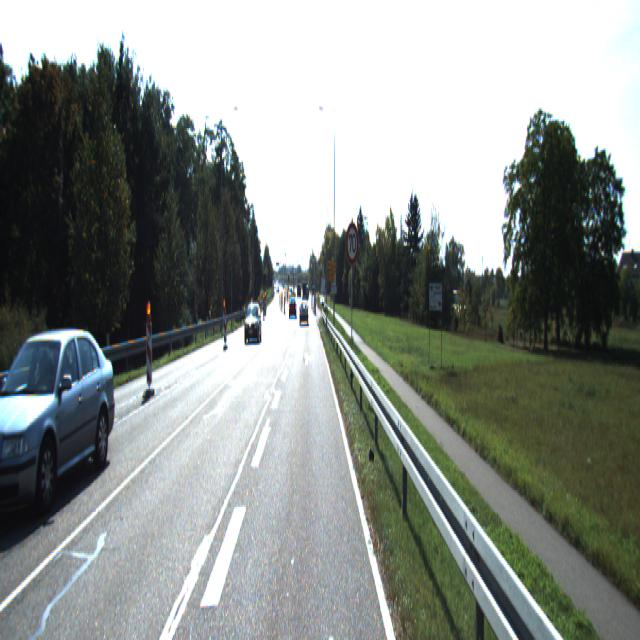Car: (0, 312, 122, 526), (244, 301, 262, 344), (300, 300, 308, 324)
